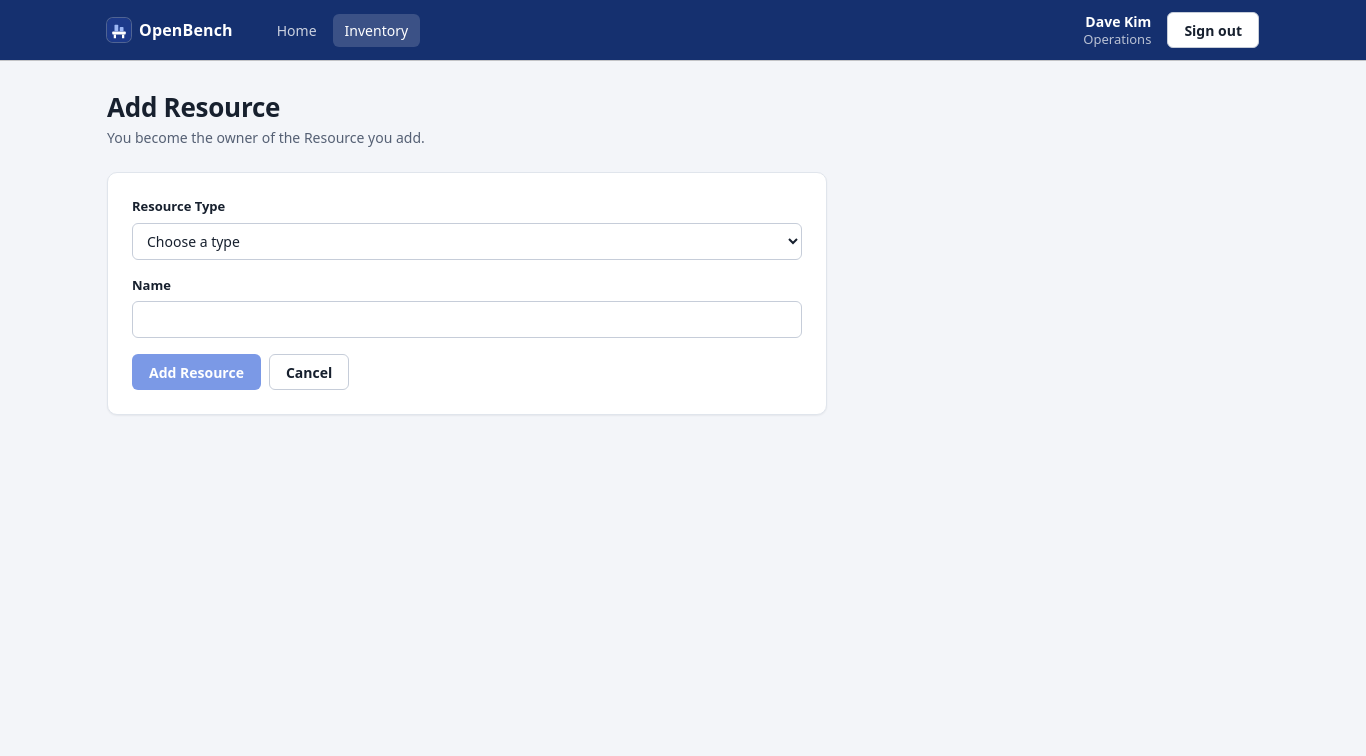
Test: AddResourcePage › asks for units for a Metered type
Select "GPU" in the dropdown labelled "Resource Type" at (467, 241), box [132, 223, 802, 260]
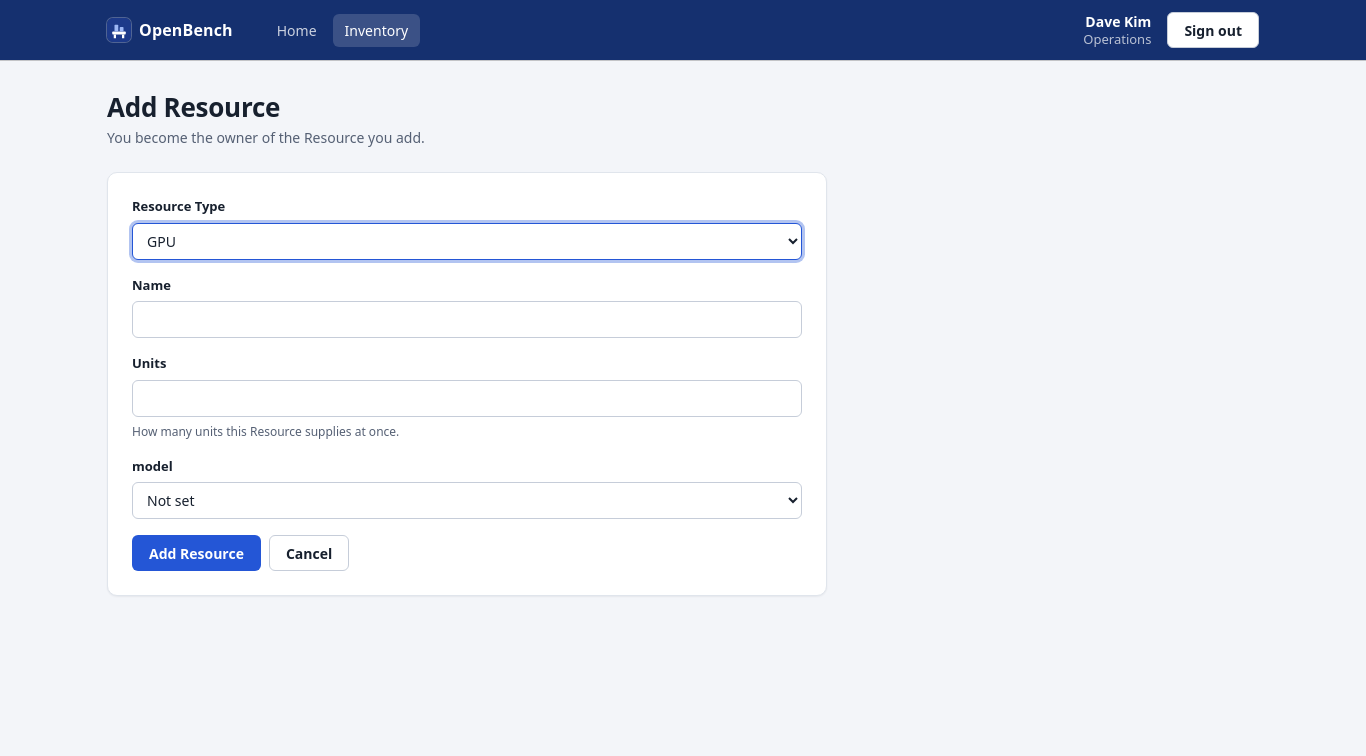
Type "gpu-node-c" into the field labelled "Name" at (467, 320), box [132, 301, 802, 338]
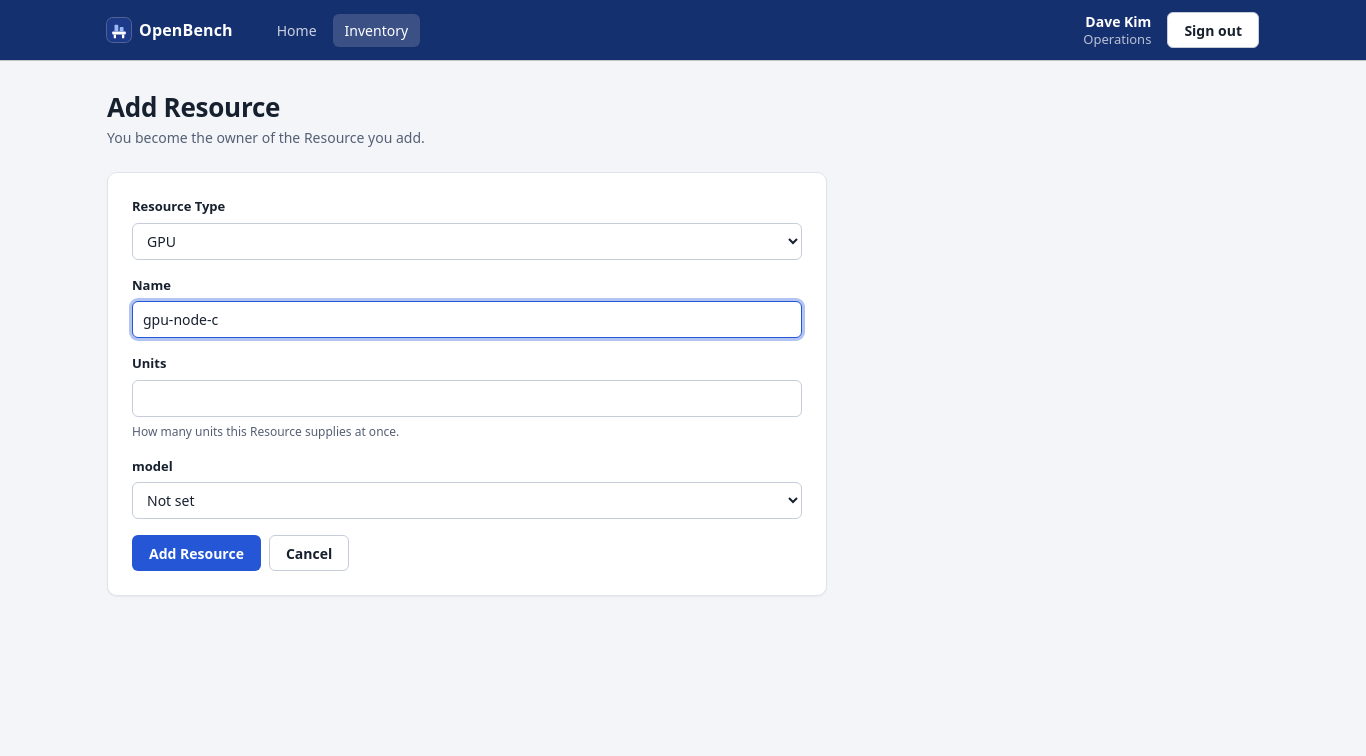
Type "4" into the number field labelled "Units" at (467, 398), box [132, 380, 802, 417]
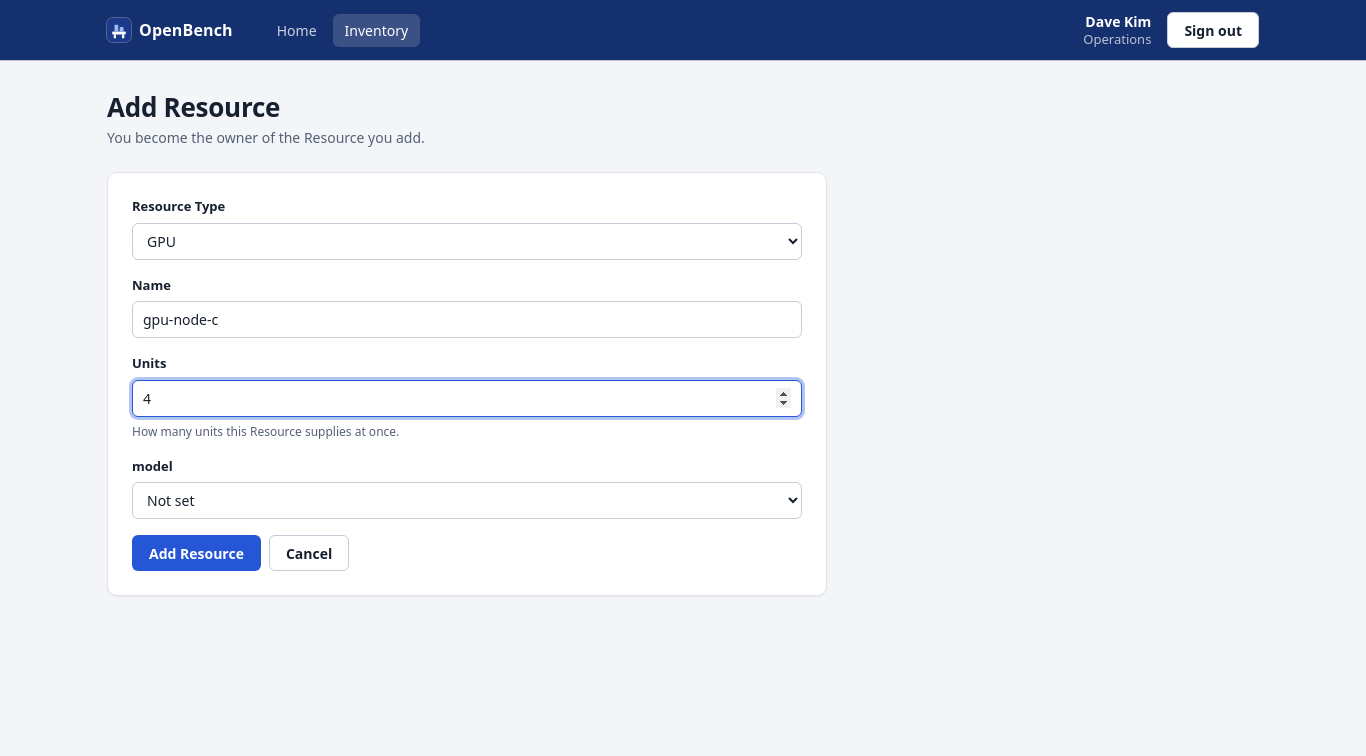
Select "A100" in the dropdown labelled "model" at (467, 501), box [132, 482, 802, 519]
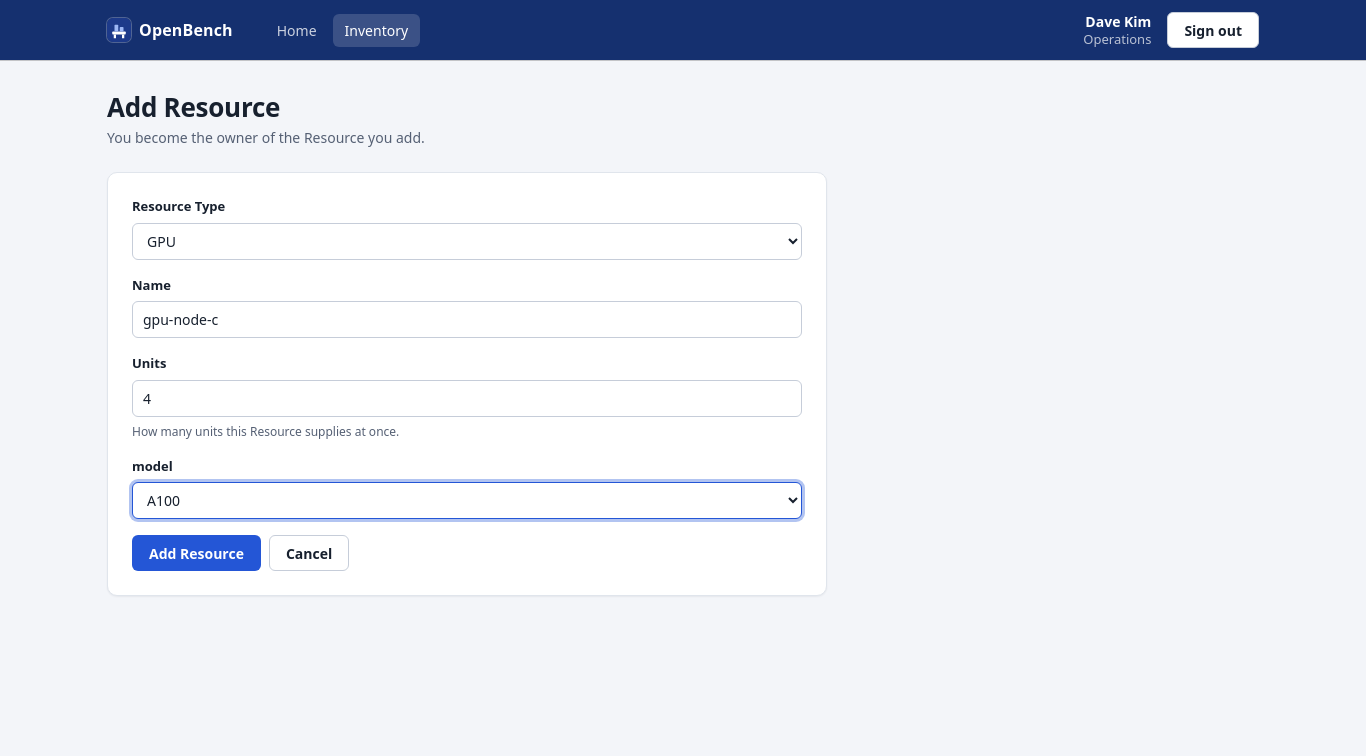
Click the button "Add Resource" at (196, 553), box [132, 535, 261, 571]
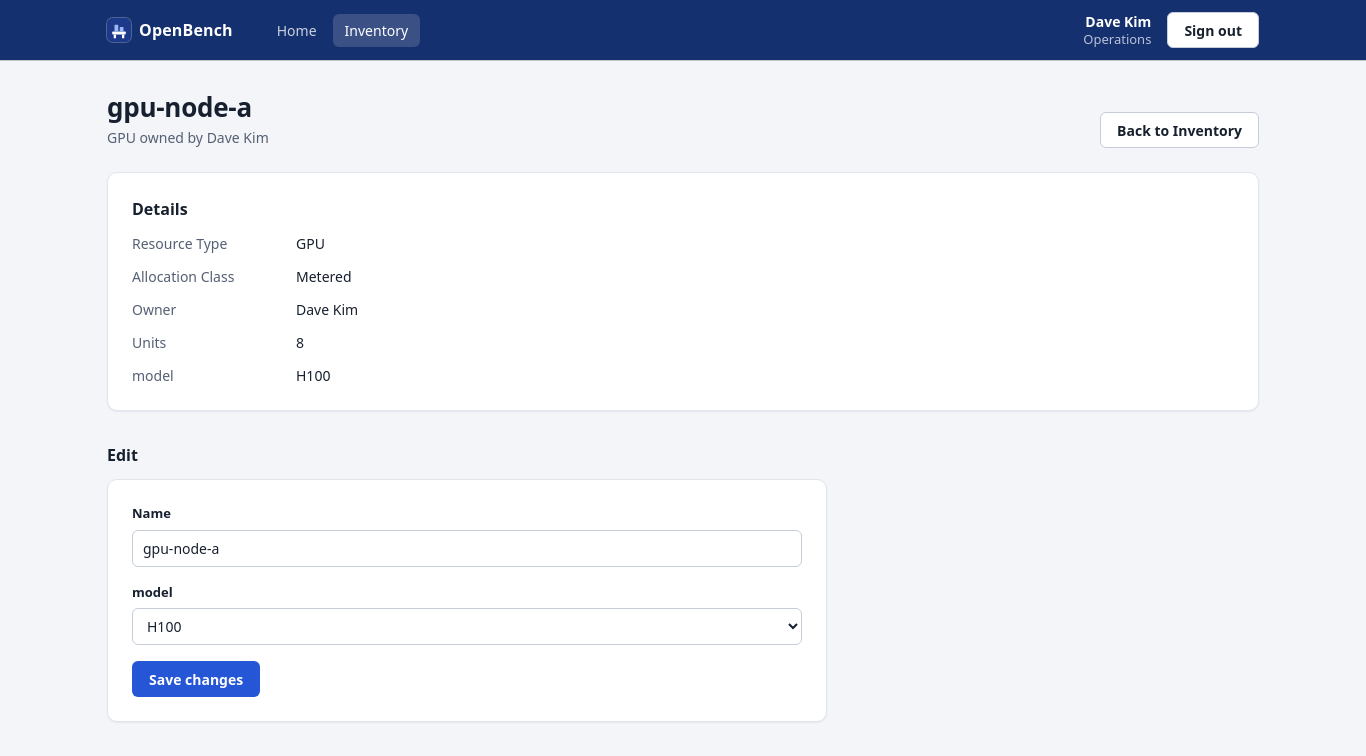
Now the heading "gpu-node-a" is shown, box [107, 92, 269, 123]
